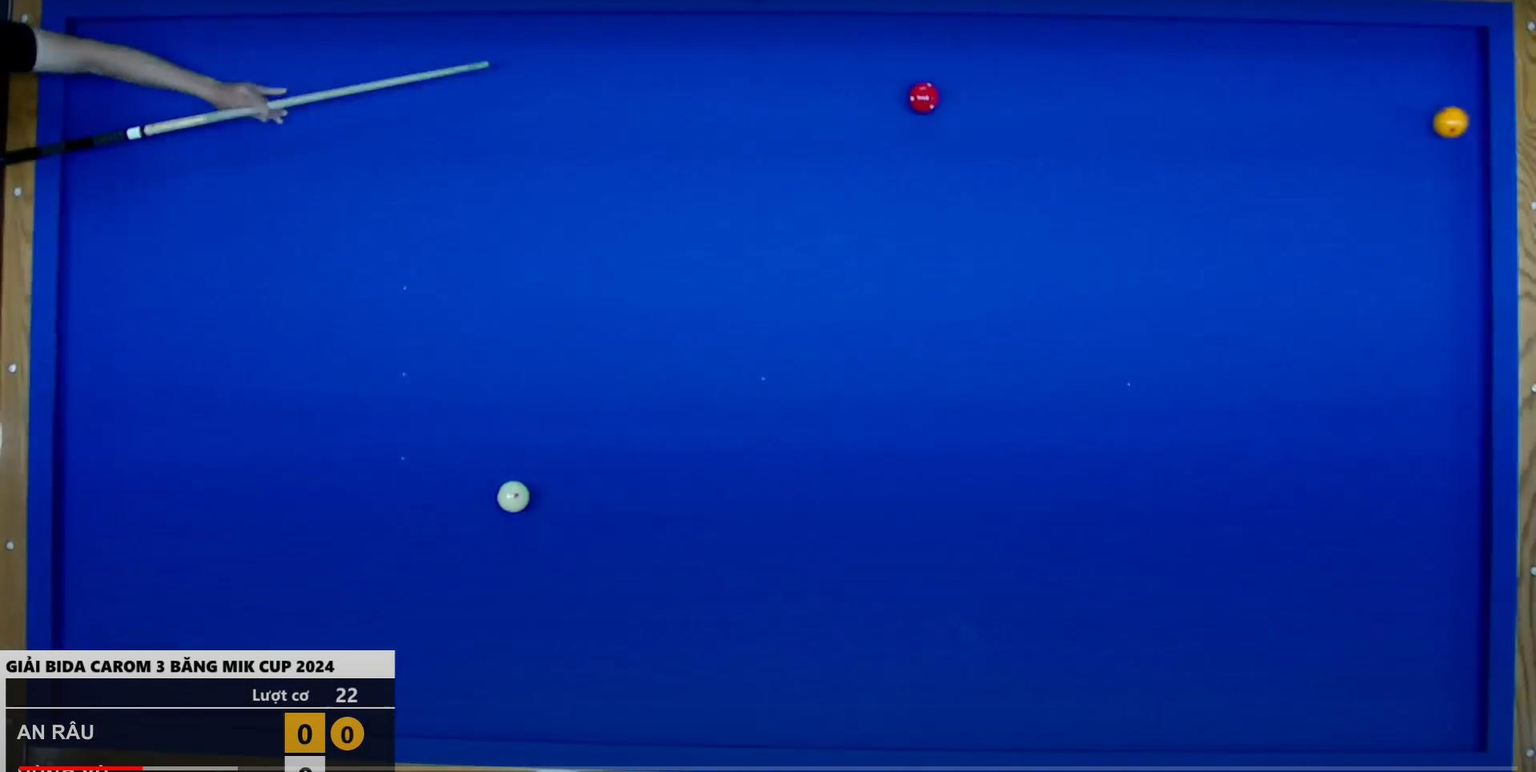red ball: (903, 71, 947, 121)
white ball: (489, 472, 533, 521)
yellow ball: (1433, 106, 1473, 148)
